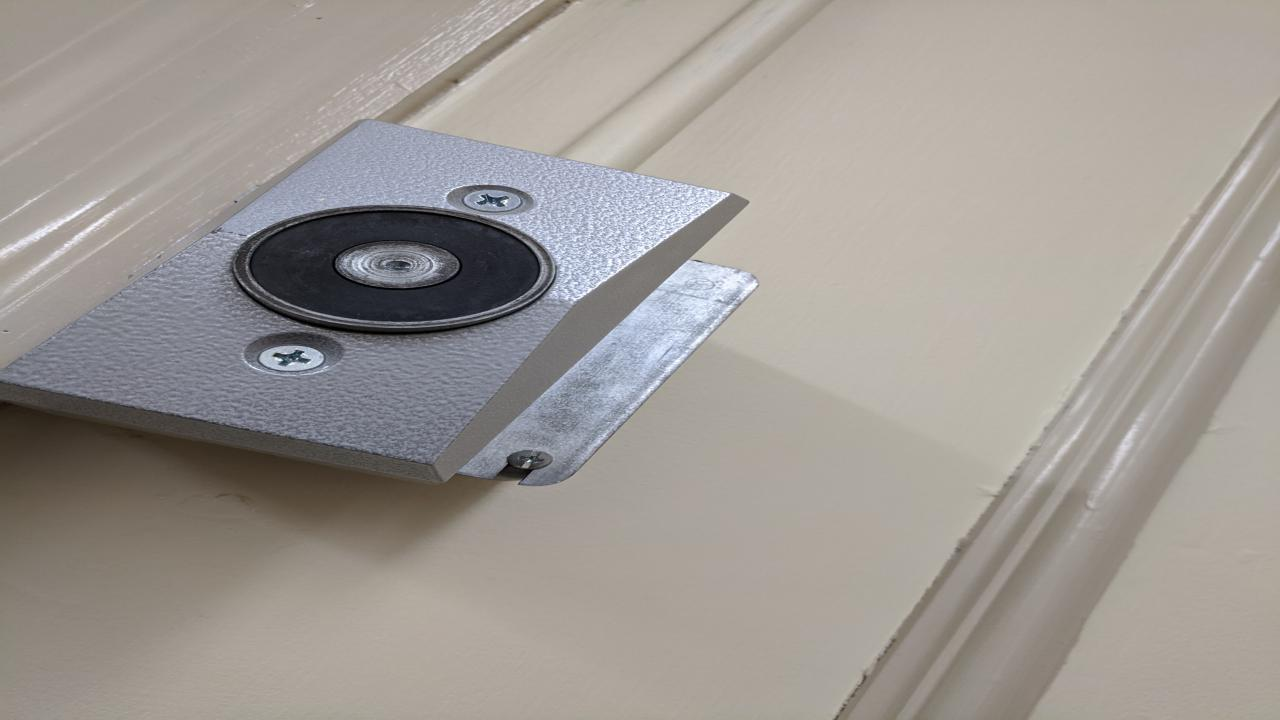CRS: (256, 345, 327, 372), (462, 190, 530, 212), (504, 449, 554, 471)
